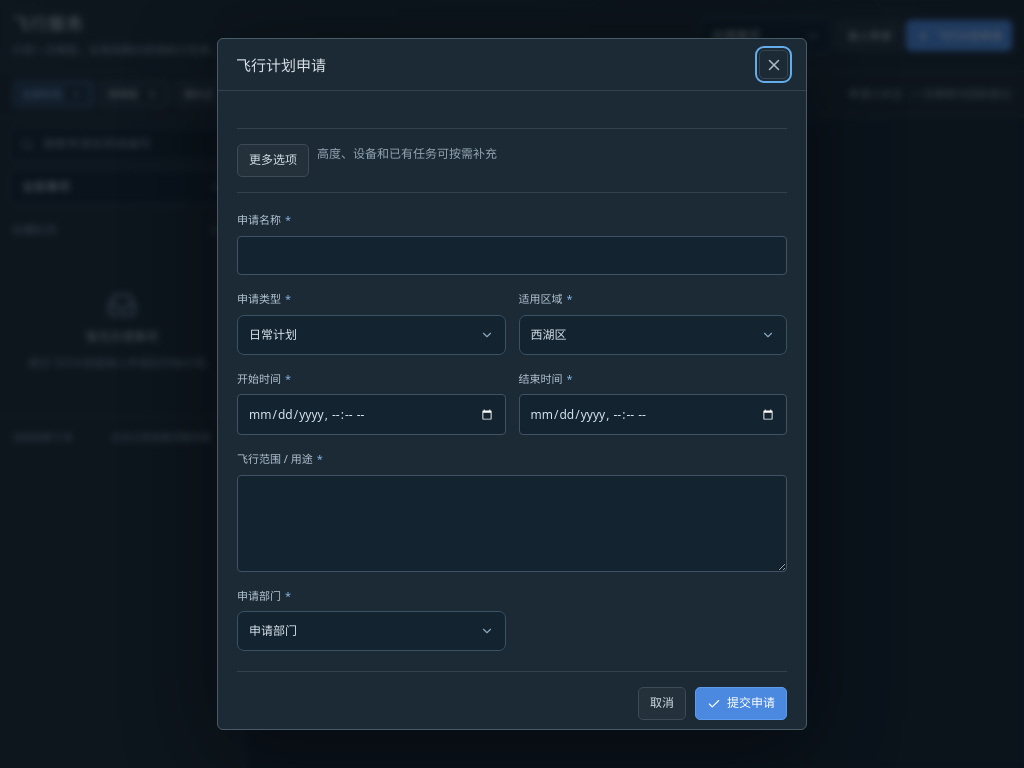
Test case: 飞行申请直达与精简表单 › apply直达普通申请，默认日常，证照与可选关联默认收起
This screenshot has width=1024, height=768.
Check: the field labelled "申请名称*" is shown, box [237,236,787,275]
Check: the dropdown named "适用区域" reads "西湖区", box [518,315,787,355]
What coordinates should you click on to do the following:
click the dropdown named "申请类型"
I would click on:
 (273, 334)
Its box is [237,315,506,355].
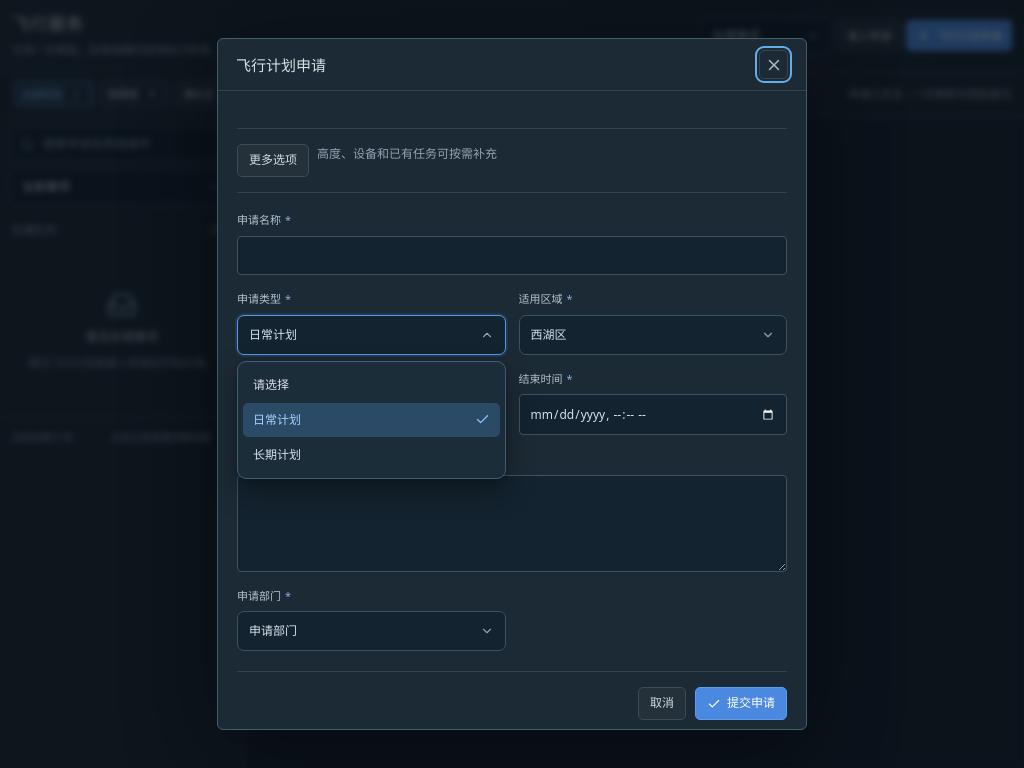
Check: the option "长期计划" is shown, box [253,446,301,463]
